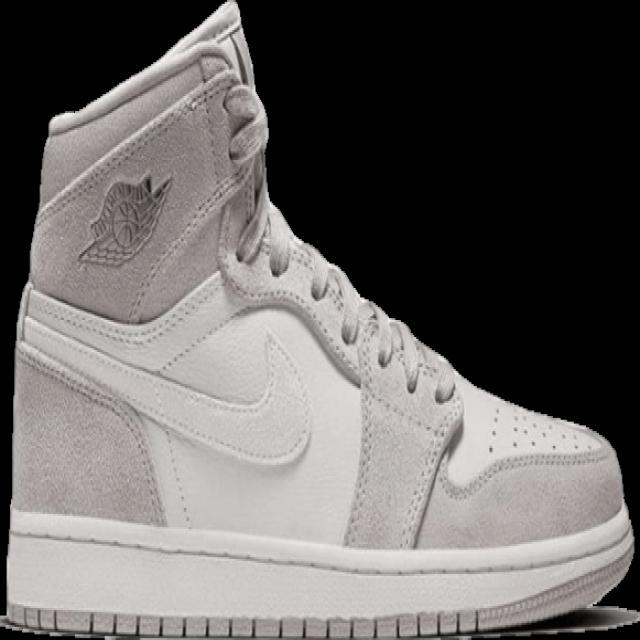J1_InsoleChar: (1, 0, 637, 639)
J1_ShoeLogo: (76, 170, 174, 268)
J1_StitchPattern: (15, 236, 466, 550), (3, 502, 636, 636), (259, 226, 464, 548), (15, 279, 313, 466), (14, 311, 196, 527), (264, 232, 455, 405), (35, 65, 240, 224), (340, 308, 463, 548), (6, 605, 480, 639), (342, 303, 386, 547), (398, 392, 465, 550), (353, 305, 457, 406), (449, 444, 613, 500), (483, 403, 502, 456)
